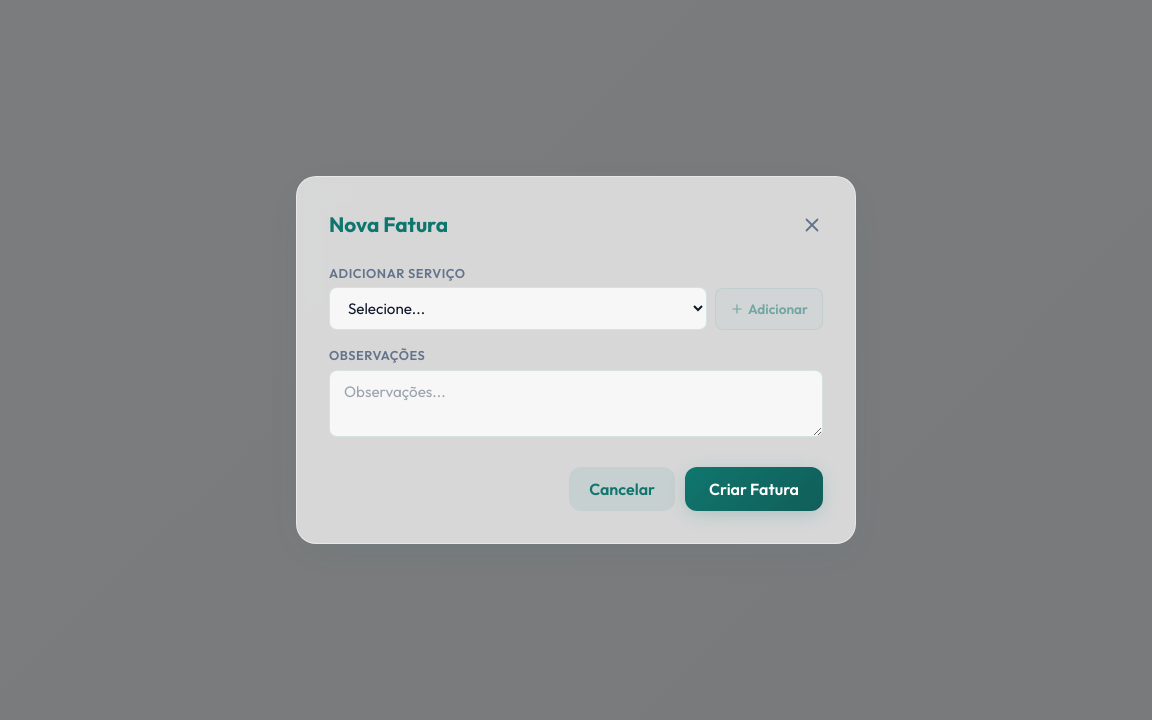
Test: FaturaForm › should create fatura with items
// Select a serviço and add
Step 1. Select "Consulta — R$ 150.00" in the dropdown → (518, 309), box [329,287,707,330]
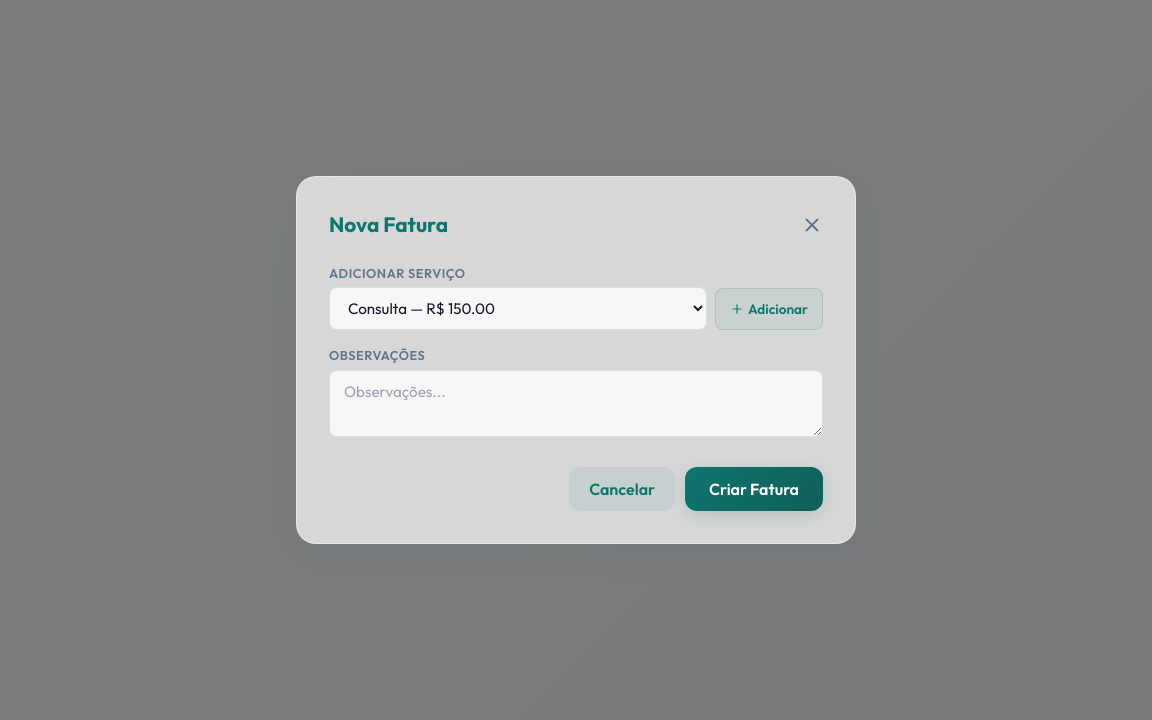
Step 2. Click the button "Adicionar" → (769, 309), box [715,288,823,330]
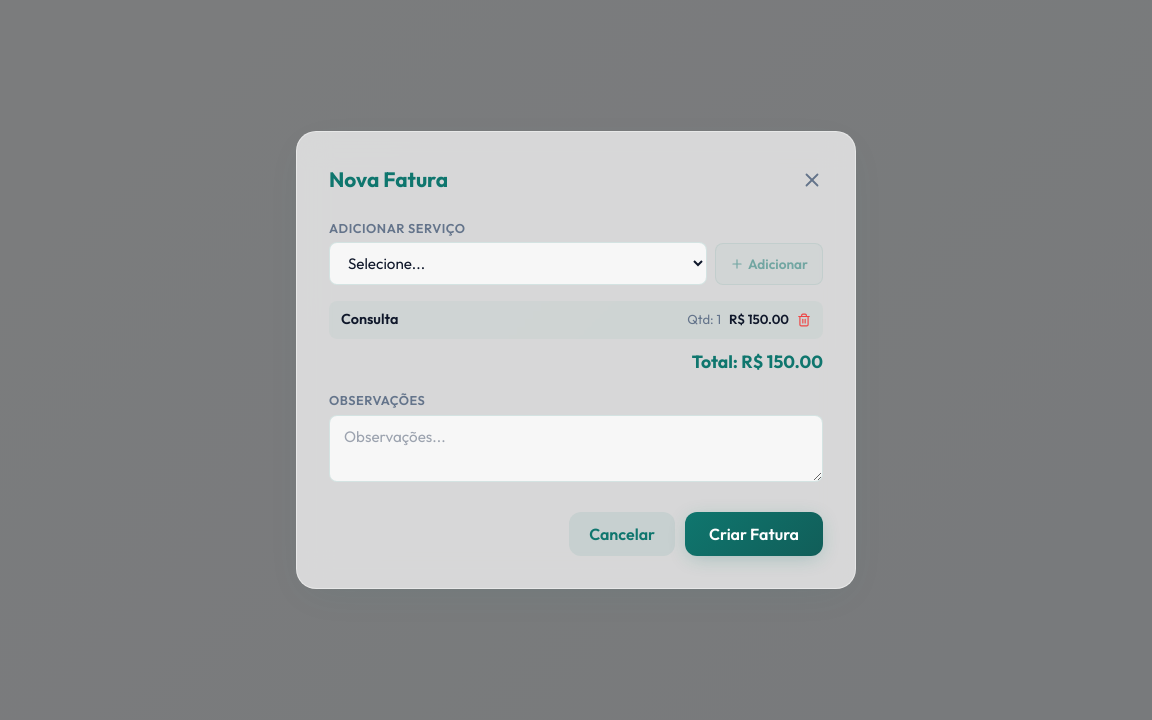
Expected: the text "Total: R$ 150.00" is shown, [692,350,823,373]
